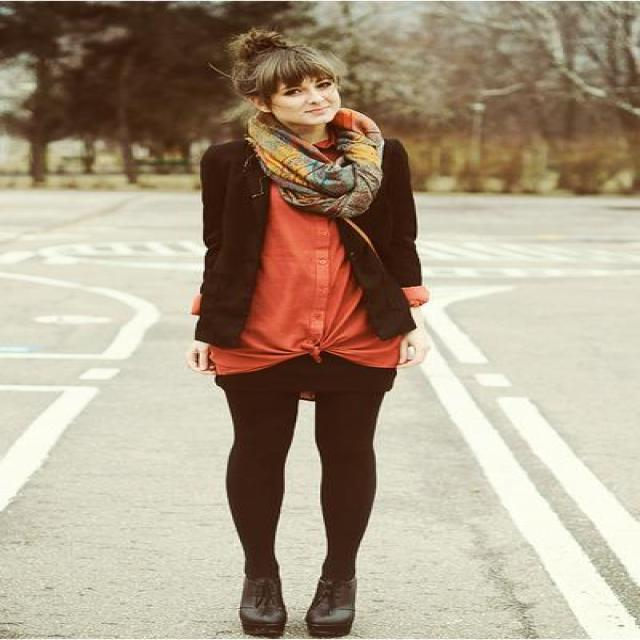jacket: (192, 141, 421, 344)
shirt: (202, 192, 427, 374)
shoe: (238, 571, 356, 638)
